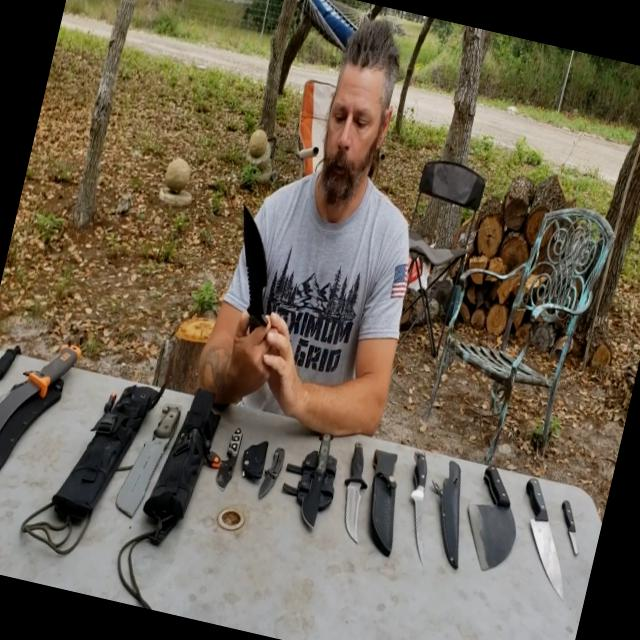knife: (0, 306, 90, 518), (202, 192, 304, 358), (447, 452, 538, 584), (112, 378, 186, 528), (505, 468, 589, 594), (388, 431, 456, 567), (328, 425, 389, 546), (290, 420, 347, 541), (207, 410, 256, 500), (545, 489, 598, 572), (253, 432, 303, 512), (0, 327, 33, 428)
